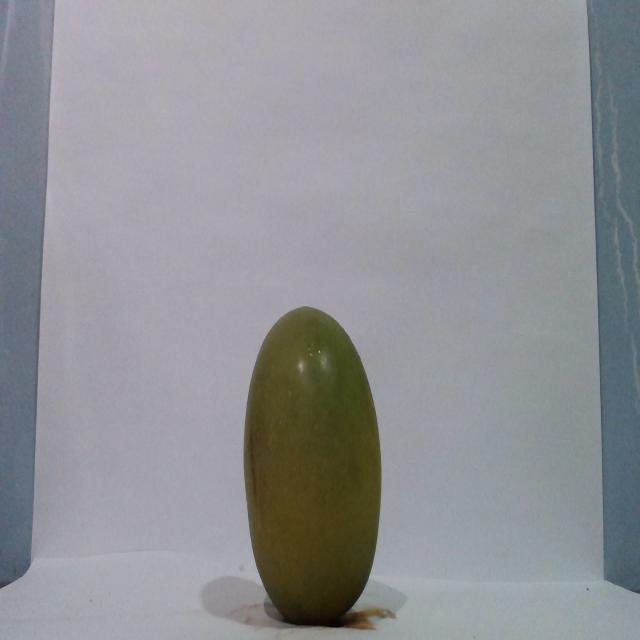Red: (241, 304, 383, 624)
